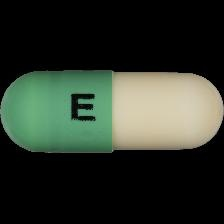50436-0922: (0, 0, 224, 224)
